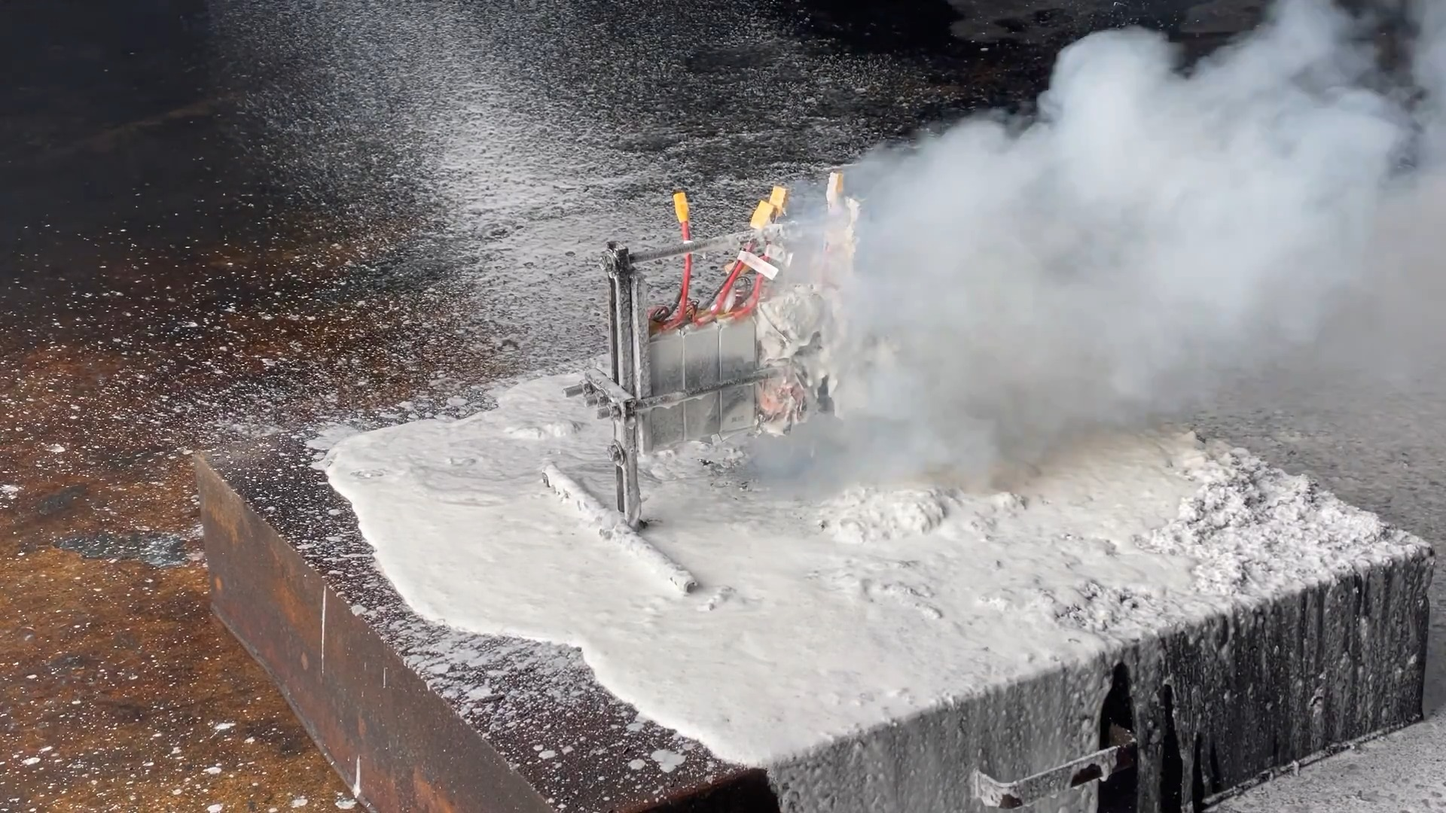smoke: (751, 0, 1446, 504)
